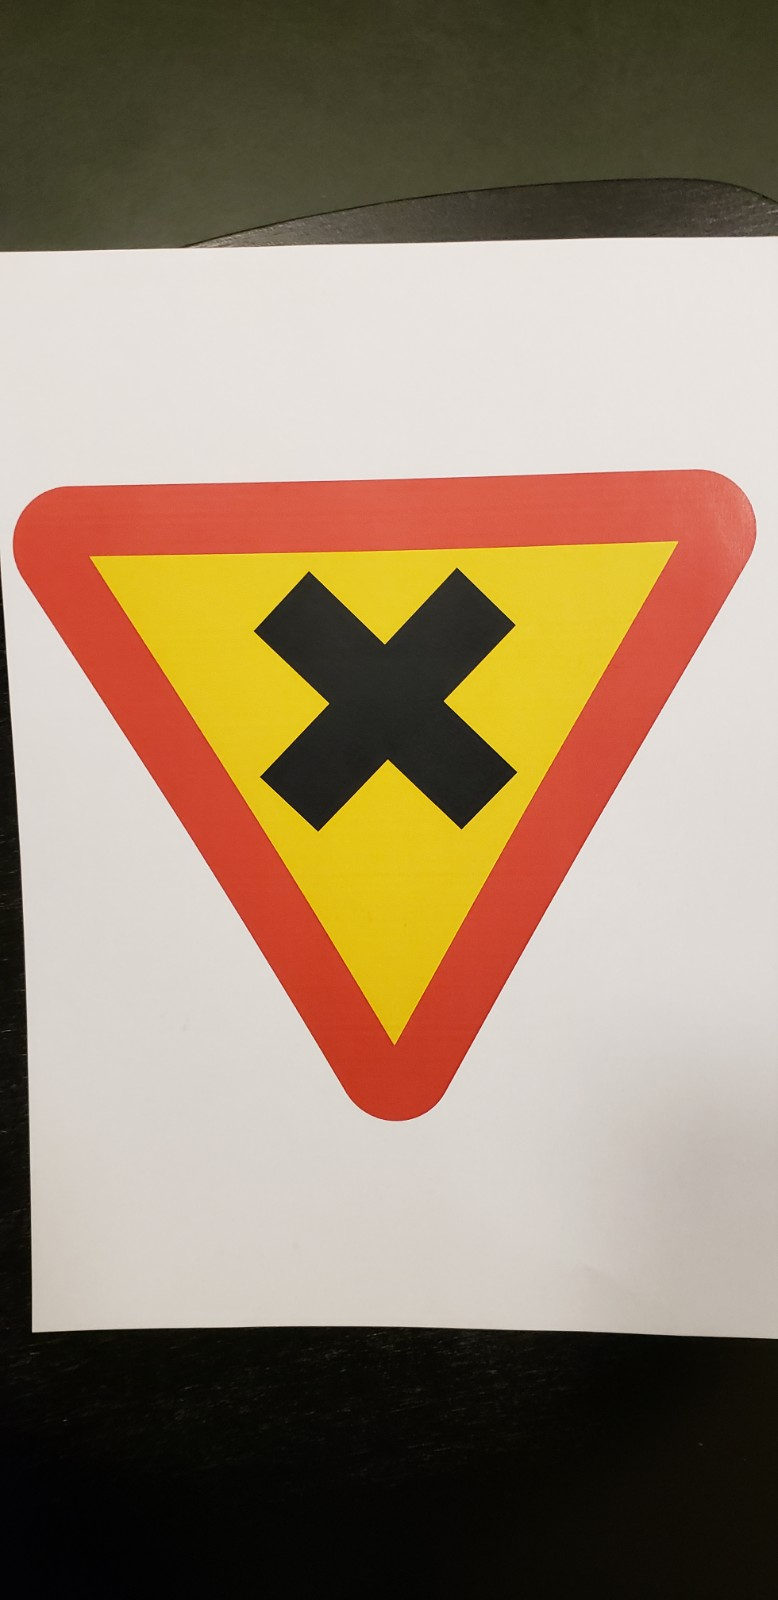junction: (7, 471, 755, 1168)
